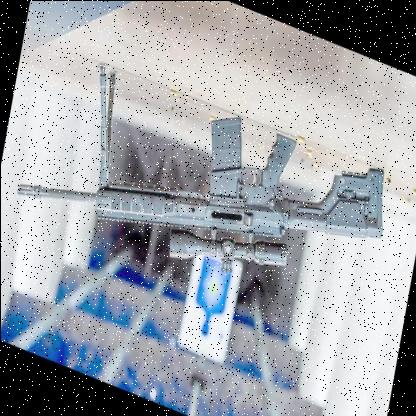rifle: (8, 31, 392, 341)
